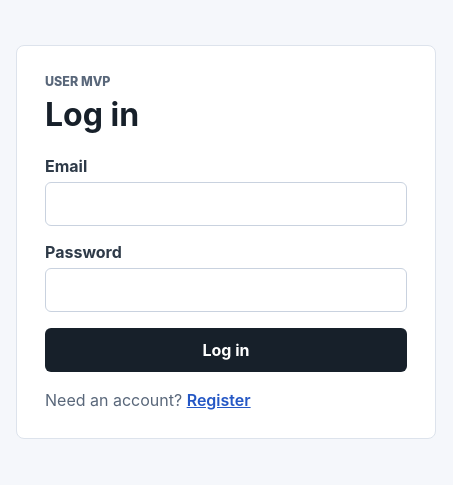
Test: Login › shows validation errors
The width and height of the screenshot is (453, 485).
Click the button "Log in". click: (226, 350)
box: [45,328,407,372]
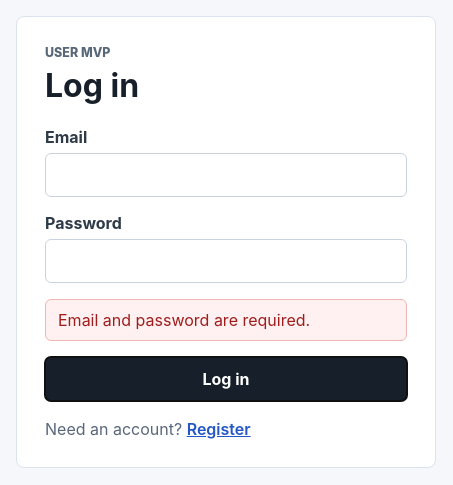
Now the message reads "Email and password are required.", box [58,310,310,330]
